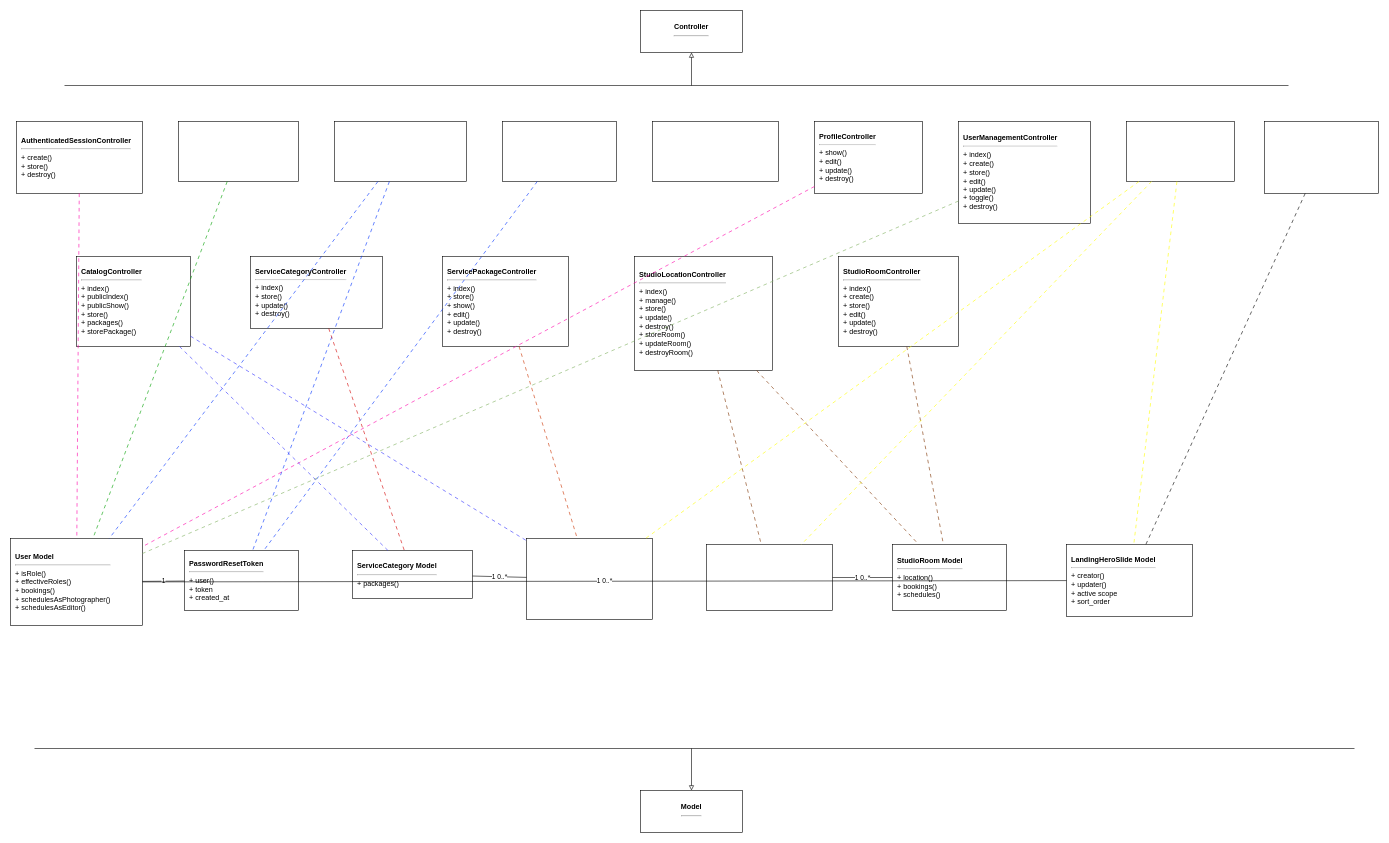
This 1389x843 diagram has some shape labels left out. The shapes that lost their labels are listed below. From the top down, each one's box as (x1, y1, x2, y2) in pixels, then its label:
(178, 121, 298, 182): RegisteredUserController + create() + store()
(334, 121, 466, 182): PasswordResetLinkController + create() + store()
(502, 121, 616, 182): NewPasswordController + create() + store()
(652, 121, 778, 182): EmailVerificationController + __invoke() + store()
(1126, 121, 1234, 182): LandingController + __invoke() - landingData()
(1264, 121, 1378, 194): LandingHeroController + index() + store() + update() + destroy()
(526, 538, 652, 620): ServicePackage Model + category() + bookings() + features + addons + gallery
(706, 544, 832, 610): StudioLocation Model + rooms() + bookings() + photo_gallery()
